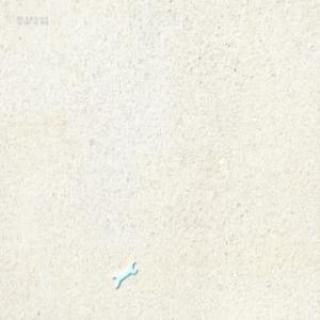Wrenchtrack_idkeyframe: (112, 258, 136, 288)
